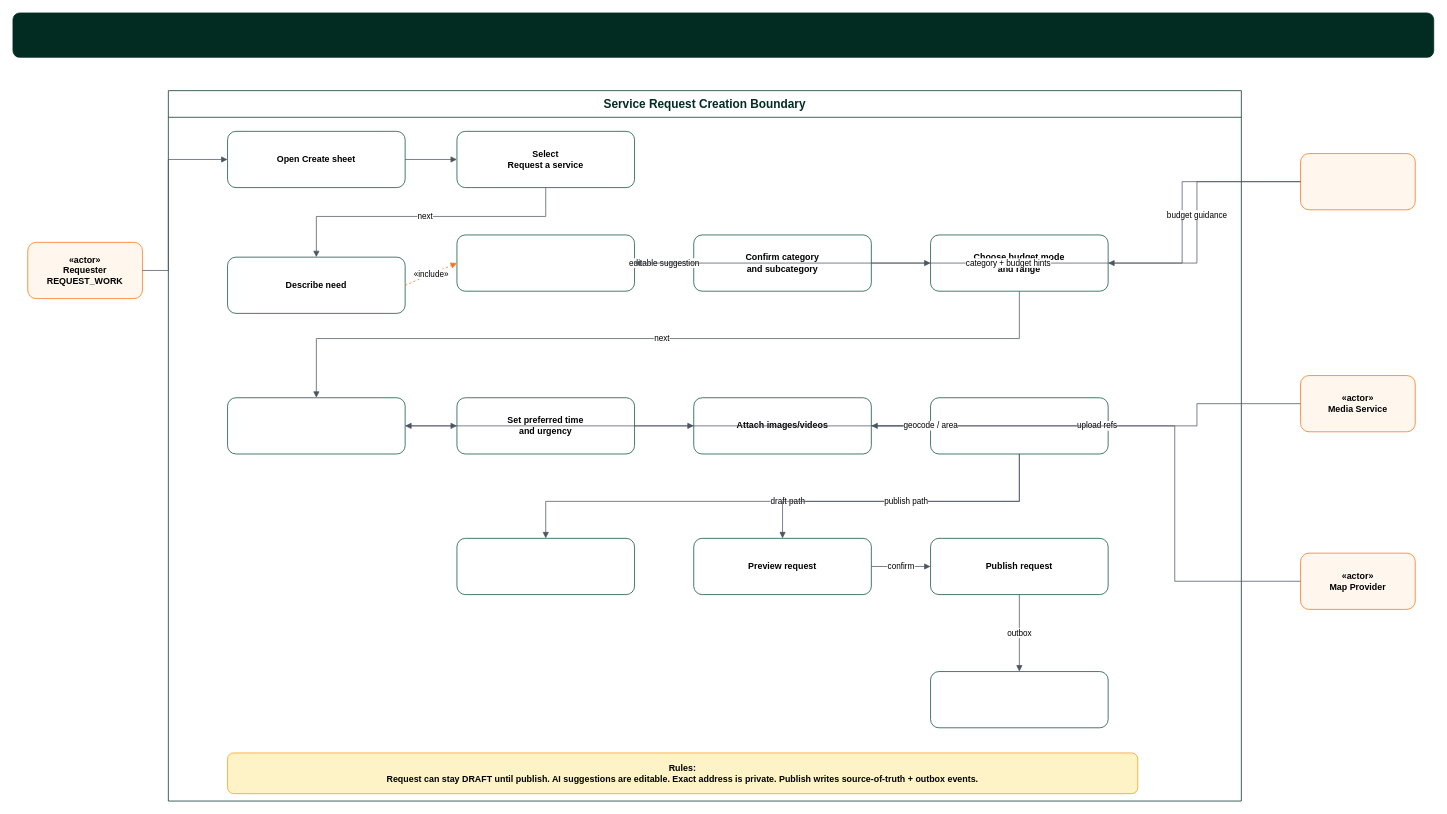
Some shapes in this 1447 by 814 pixel diagram are drawn without their labels. Each missing label, with the centre of its shape:
"Emit events ServiceRequestPublished MatchingRequested" goes at pixel 1019 699.
"Get AI category suggestion" goes at pixel 545 262.
"Save draft" goes at pixel 545 566.
"Set location and service area" goes at pixel 316 425.
"Set visibility and matching rules" goes at pixel 1019 425.
"Viaverse Request Creation — Use Case Diagram" goes at pixel 723 34.
"«actor» AI Assistant" goes at pixel 1357 181.
